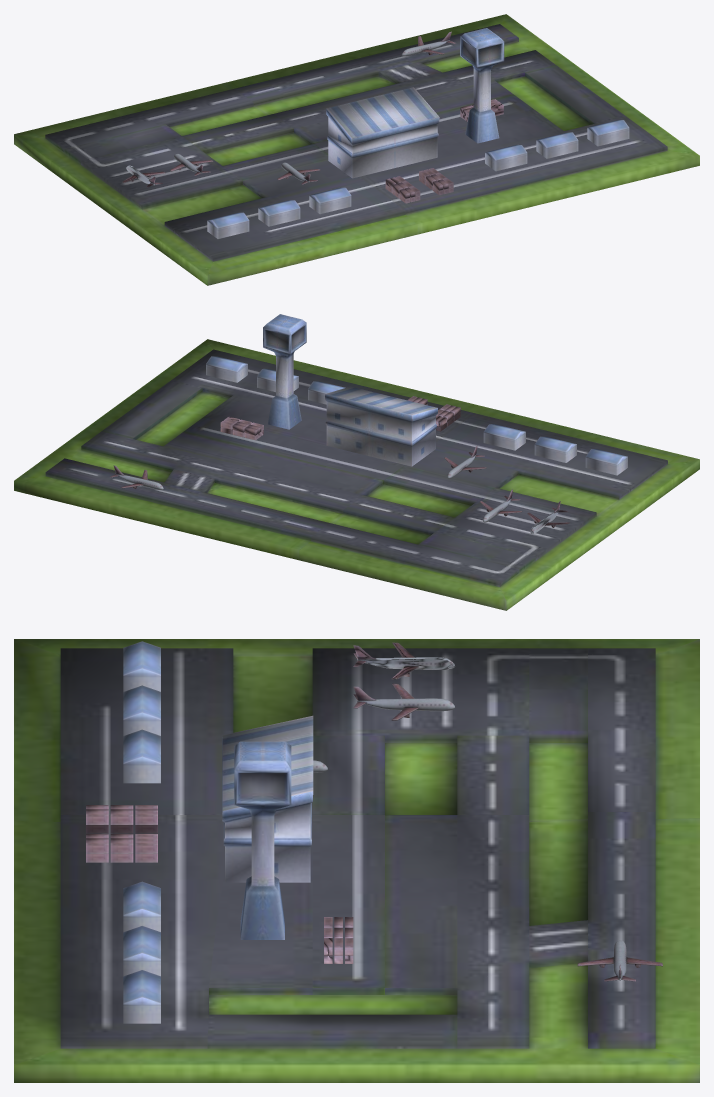
Rendered from Airport.glb.
The picture shows the model from 3 angles, top to bottom: view 1: azimuth 30°, elevation 25°; view 2: azimuth 150°, elevation 25°; view 3: azimuth 270°, elevation 25°; orthographic projection. The views are drawn at different scales.
Parts seen in each view (by area): view 1: ground_low, airport_low, airport_low.003, airport_low.006, airport_low.004, airport_low.005, airport_low.007; view 2: ground_low, airport_low, airport_low.003, airport_low.006, airport_low.001, airport_low.007, airport_low.004; view 3: ground_low, airport_low, airport_low.003, airport_low.006, airport_low.004, airport_low.005, airport_low.001, airport_low.007.
Part boxes in pixels (<box>): ground_low: <box>14,14,699,285</box>; airport_low: <box>326,28,504,178</box>; airport_low.003: <box>207,120,629,238</box>; airport_low.006: <box>122,154,213,187</box>; airport_low.004: <box>385,176,420,203</box>; airport_low.005: <box>419,168,453,195</box>; airport_low.007: <box>401,31,455,56</box>; ground_low: <box>14,339,699,610</box>; airport_low: <box>263,314,437,466</box>; airport_low.003: <box>206,356,627,475</box>; airport_low.006: <box>479,489,569,533</box>; airport_low.001: <box>220,416,263,440</box>; airport_low.007: <box>109,465,163,489</box>; airport_low.004: <box>436,404,460,431</box>; ground_low: <box>14,639,699,1082</box>; airport_low: <box>222,715,313,939</box>; airport_low.003: <box>123,641,160,1023</box>; airport_low.006: <box>353,642,455,720</box>; airport_low.004: <box>86,805,157,833</box>; airport_low.005: <box>86,834,157,862</box>; airport_low.001: <box>324,917,353,963</box>; airport_low.007: <box>577,940,662,981</box>.
Size of the model in its own units: 18.4 by 4.11 by 12.52.
3 materials, 3 textured.
